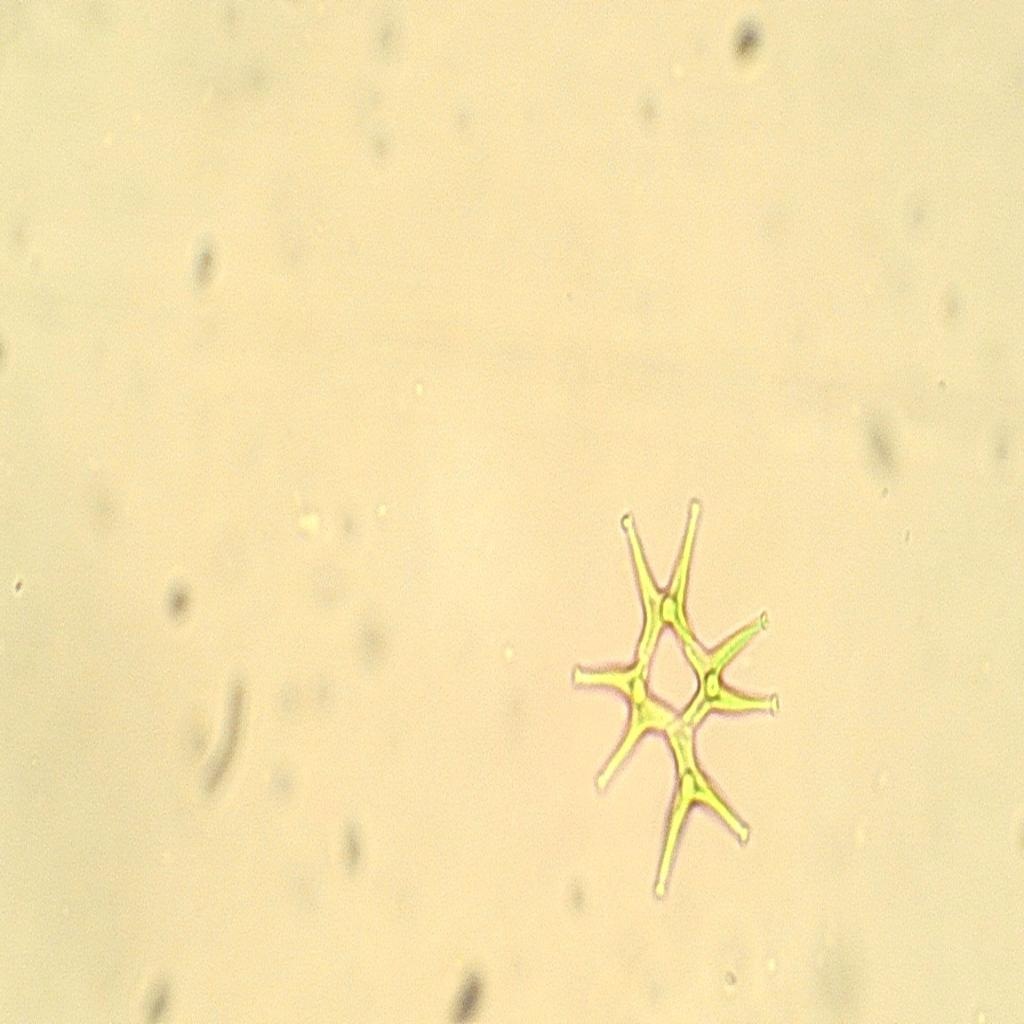Pediastrum_CT: (564, 466, 785, 935)
